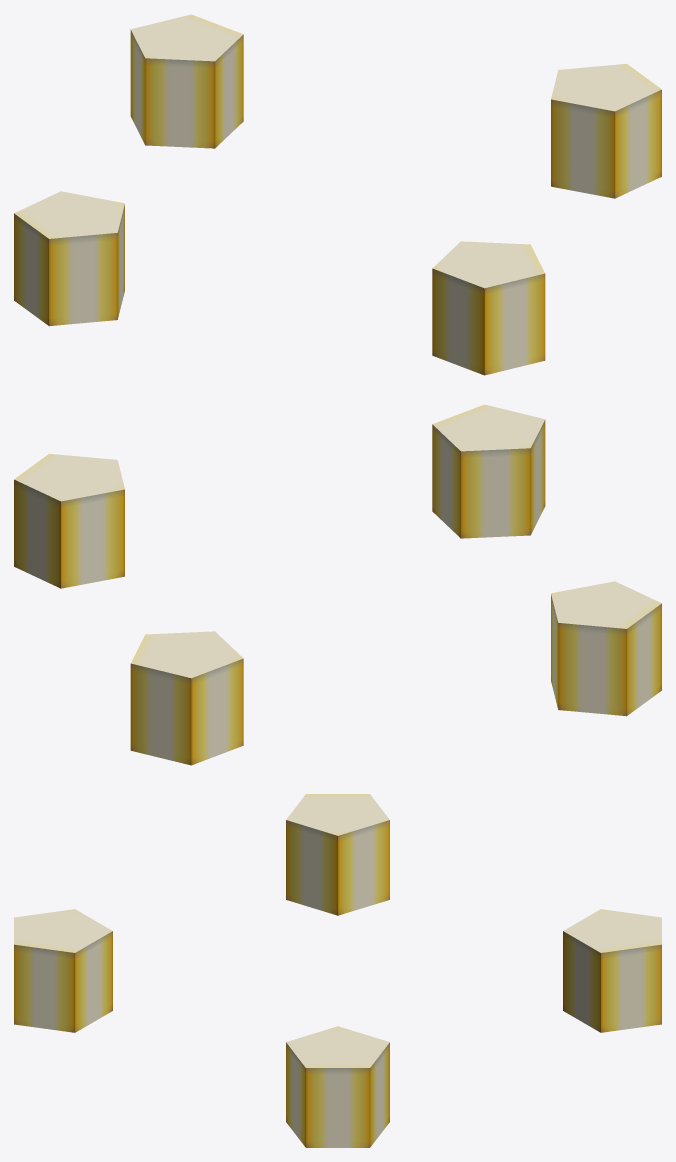
The model's file is Poly_Light_Pole_Lamps_01_02.obj.
3 renders of one model, top to bottom at view 1: azimuth 30°, elevation 25°; view 2: azimuth 150°, elevation 25°; view 3: azimuth 270°, elevation 25°, orthographic. The views are drawn at different scales.
Visible parts, largest first — view 1: Icosphere.001, Icosphere.002; view 2: Icosphere.001, Icosphere.002; view 3: Icosphere.002, Icosphere.001.
Part boxes in pixels (x1,y1,x2,y2): Icosphere.001: (130, 14, 545, 375); Icosphere.002: (14, 63, 661, 326); Icosphere.001: (130, 404, 545, 765); Icosphere.002: (14, 453, 661, 716); Icosphere.002: (286, 794, 389, 1147); Icosphere.001: (14, 909, 661, 1032).
Size of the model in its own units: 0.6851 by 0.0932 by 0.6851.
1 material, 1 textured.
